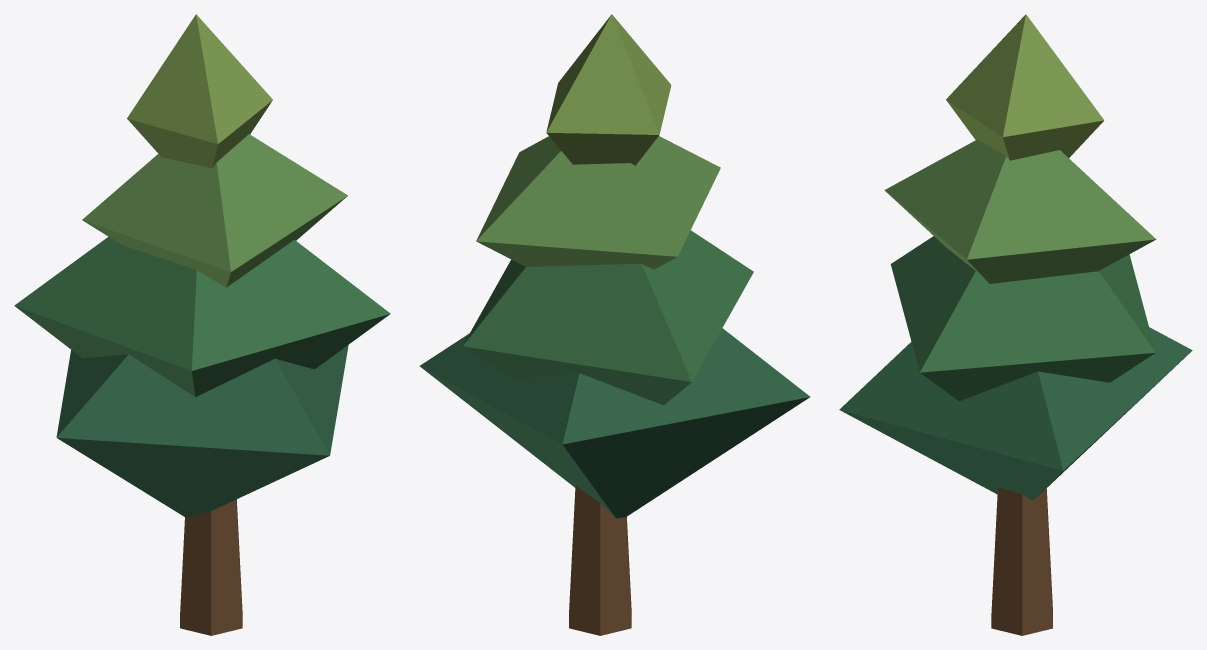
The model's file is tree-pine-canopy-2.gltf.
3 renders of one model, left to right at view 1: azimuth 30°, elevation 25°; view 2: azimuth 150°, elevation 25°; view 3: azimuth 270°, elevation 25°, orthographic.
Parts seen in each view (by area): view 1: tree-pine-canopy-2; view 2: tree-pine-canopy-2; view 3: tree-pine-canopy-2.
Part boxes in pixels (box(x1,y1,x2,y2)): tree-pine-canopy-2: box(14, 14, 390, 635); tree-pine-canopy-2: box(419, 14, 810, 635); tree-pine-canopy-2: box(839, 14, 1192, 635).
Size of the model in its own units: 1.08 by 1.84 by 0.9819.
